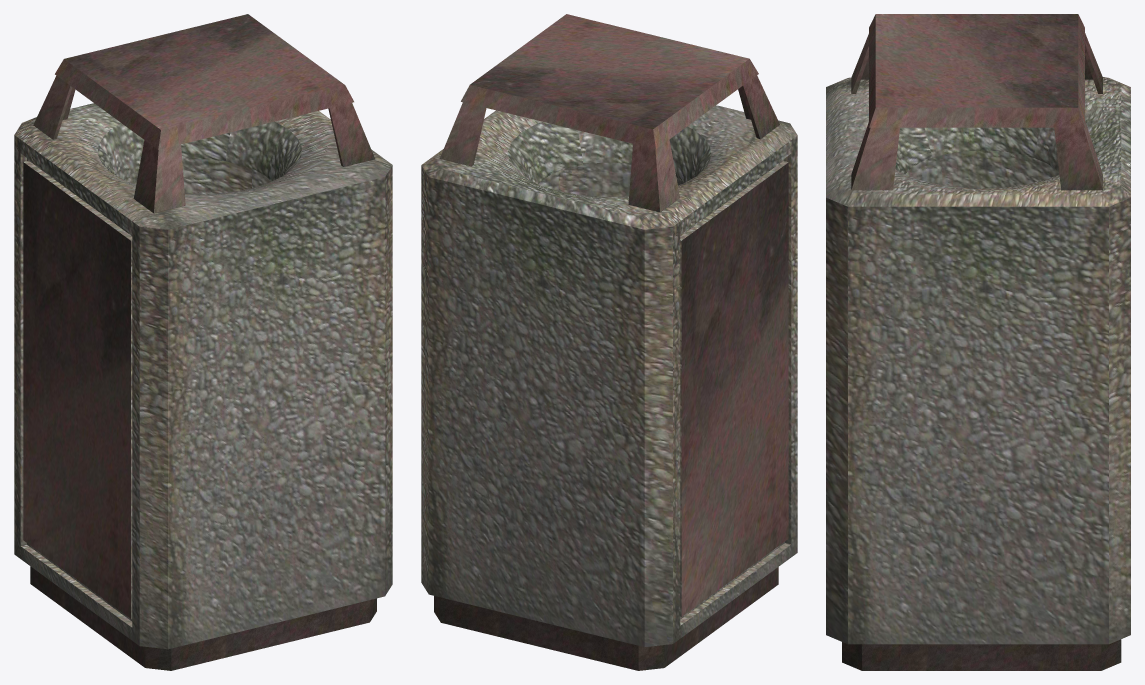
The model's file is Trashcan.FBX.
3 renders of one model, left to right at view 1: azimuth 30°, elevation 25°; view 2: azimuth 150°, elevation 25°; view 3: azimuth 270°, elevation 25°, orthographic. The views are drawn at different scales.
Parts seen in each view (by area): view 1: trashcan, Lock; view 2: trashcan, Lock; view 3: trashcan, Lock.
Boxes of the visible parts, x1=… form: trashcan: x1=14, y1=103, x2=392, y2=670; Lock: x1=33, y1=14, x2=374, y2=213; trashcan: x1=421, y1=105, x2=797, y2=670; Lock: x1=440, y1=14, x2=779, y2=212; trashcan: x1=826, y1=77, x2=1130, y2=670; Lock: x1=851, y1=14, x2=1102, y2=190.
Bounding box in the file's own units: 140 × 279 × 140.
2 materials, 2 textured.
